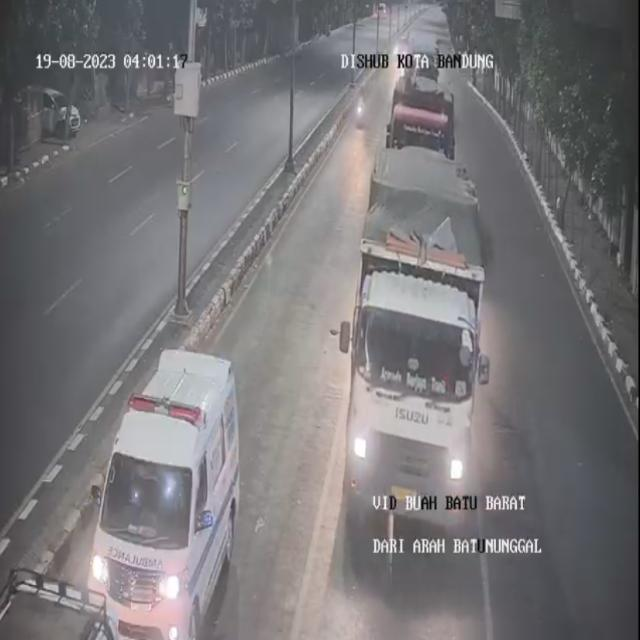ambulance: (88, 349, 239, 639)
truck: (342, 145, 486, 524), (387, 72, 454, 157)
